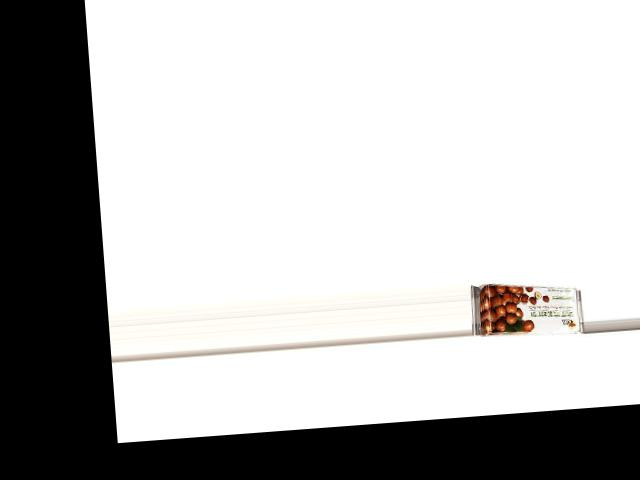chocolate: (470, 276, 584, 338)
